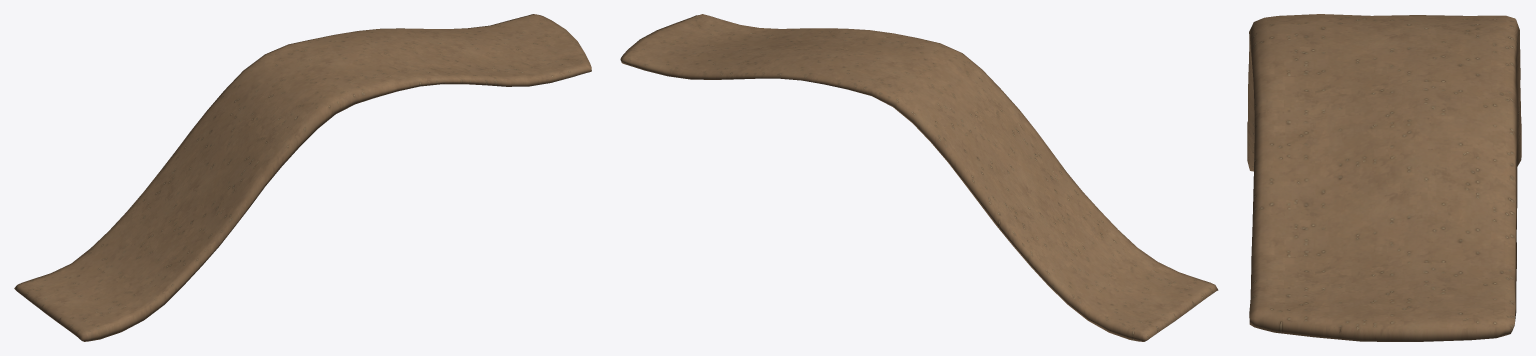
Rendered from Rampa2.FBX.
The picture shows the model from 3 angles, left to right: view 1: azimuth 30°, elevation 25°; view 2: azimuth 150°, elevation 25°; view 3: azimuth 270°, elevation 25°; orthographic projection. The views are drawn at different scales.
Visible parts, largest first — view 1: Rampa_2_Test; view 2: Rampa_2_Test; view 3: Rampa_2_Test.
Boxes of the visible parts, x1=… form: Rampa_2_Test: x1=14, y1=14, x2=591, y2=341; Rampa_2_Test: x1=620, y1=14, x2=1218, y2=341; Rampa_2_Test: x1=1247, y1=14, x2=1521, y2=341.
Size of the model in its own units: 19.74 by 6.68 by 4.54.
Materials: 1 (1 with a texture image).
